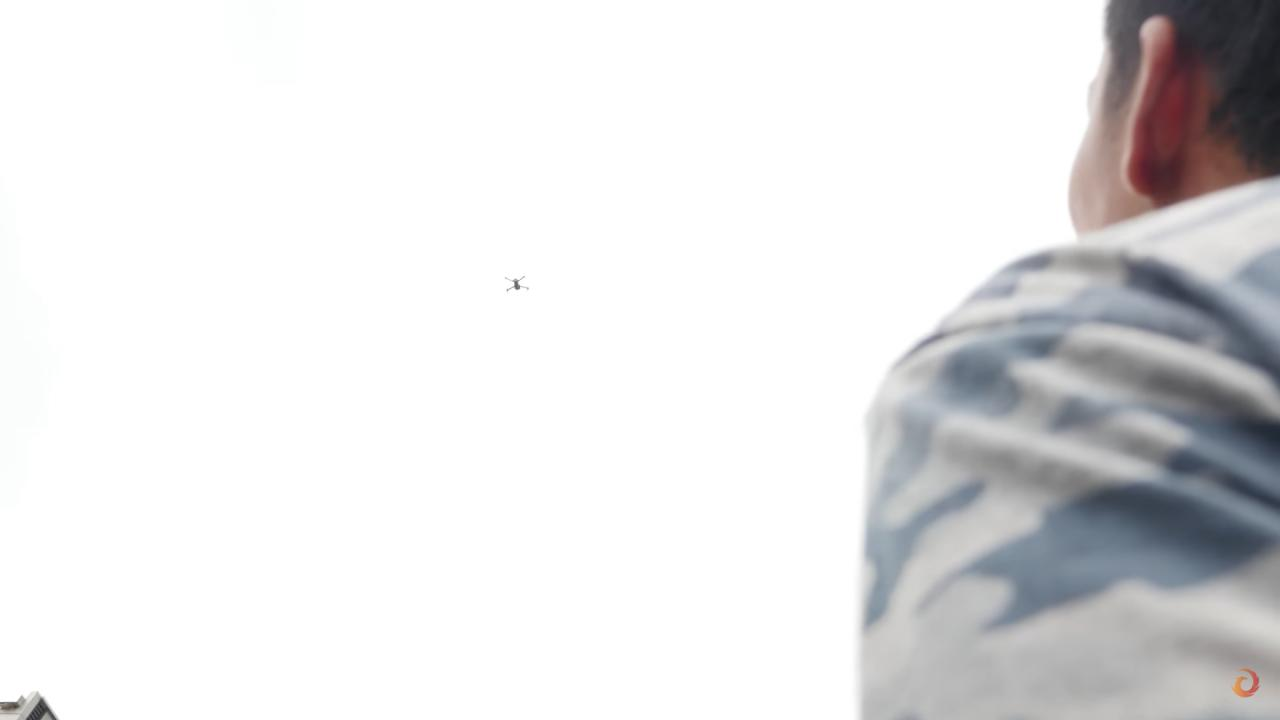Drone: (496, 268, 535, 301)
